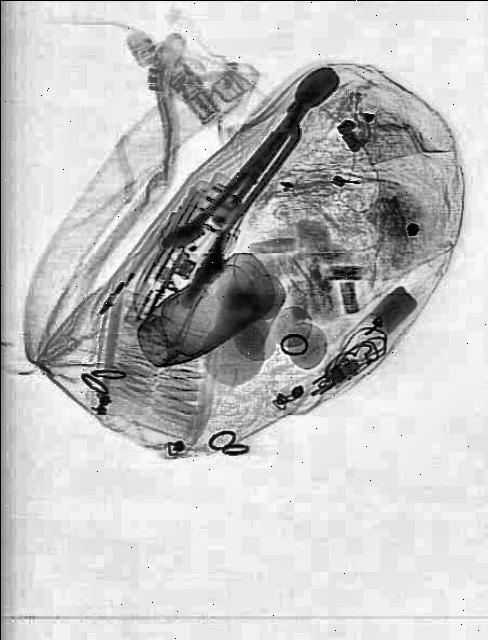Wrench: (152, 58, 342, 266)
